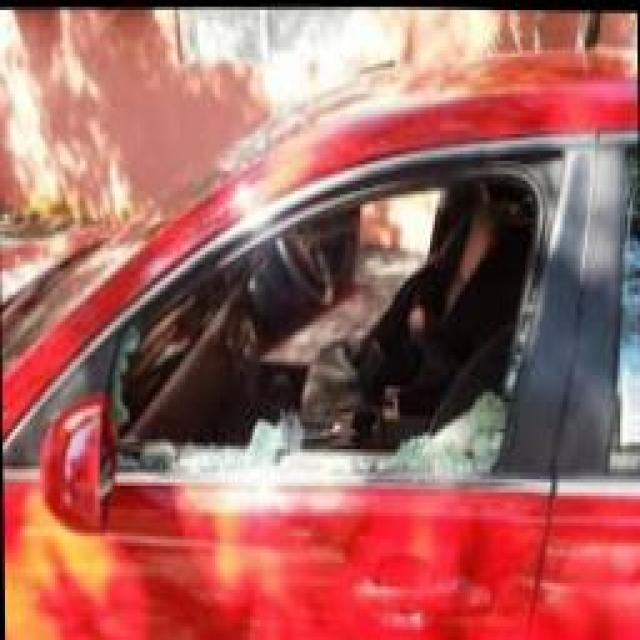Door: (22, 111, 612, 575)
